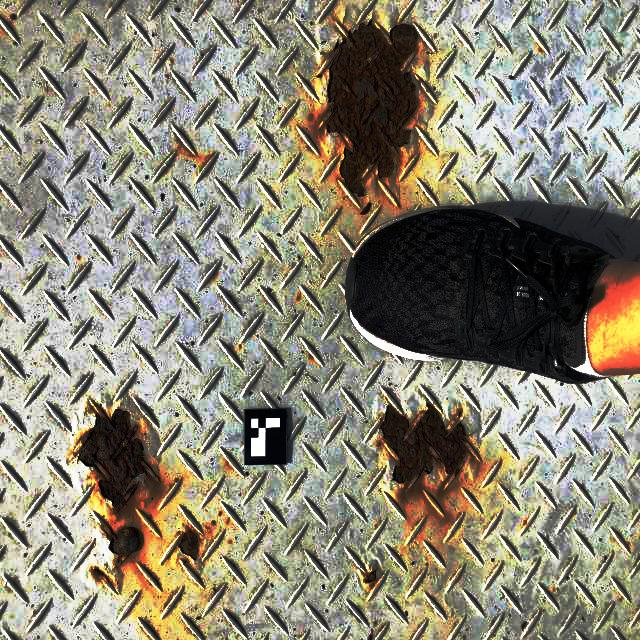Corrosion: (318, 22, 418, 195), (73, 400, 159, 514), (381, 403, 481, 491), (92, 514, 143, 567), (178, 527, 202, 561), (363, 569, 378, 586), (93, 567, 108, 579)
